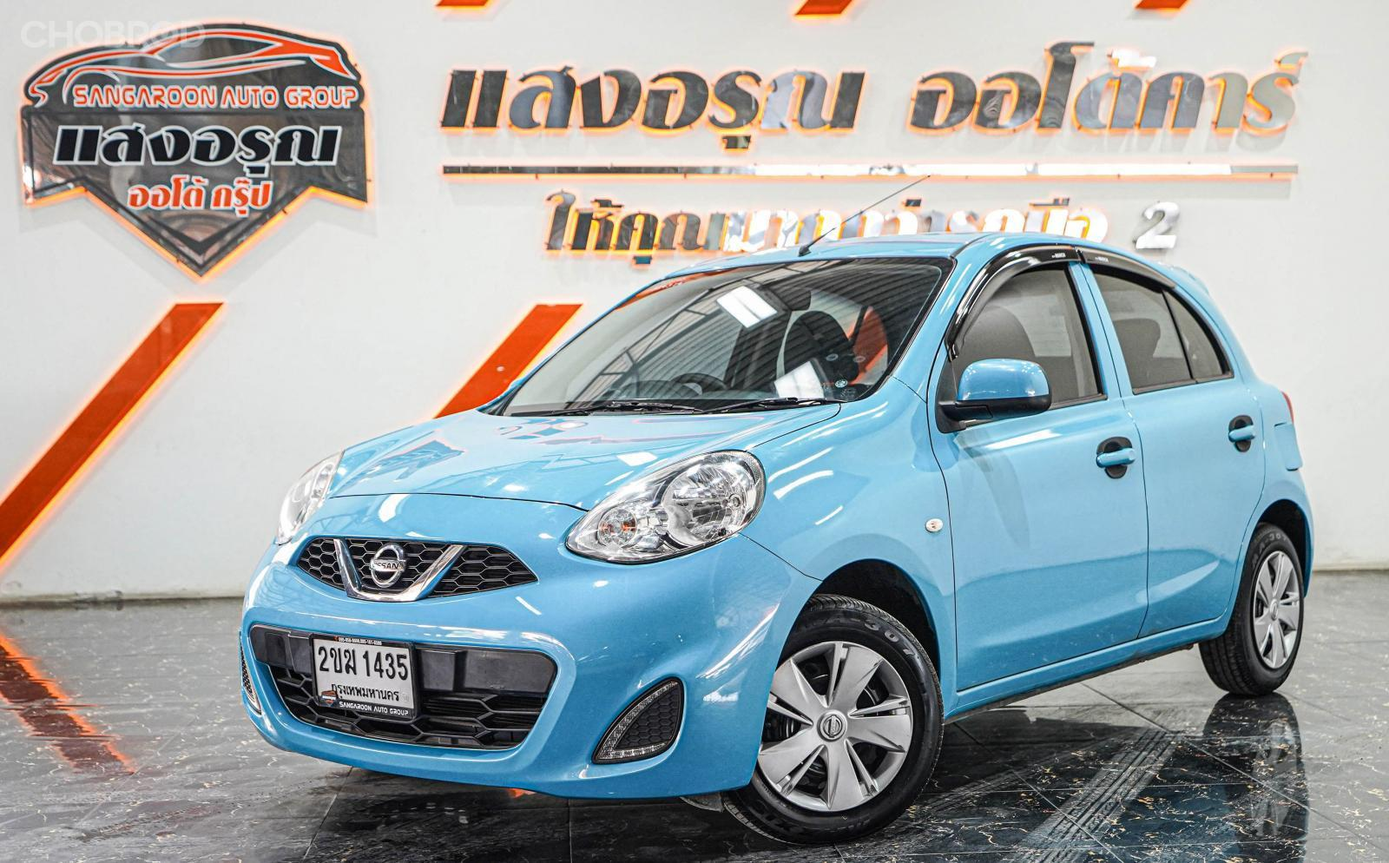license-plate: (310, 623, 426, 734)
